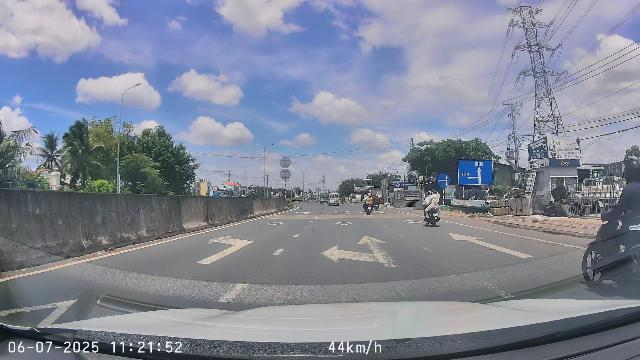301h-cac-xe-chi-duoc-di-thang-va-re-trai: (437, 173, 450, 188)
